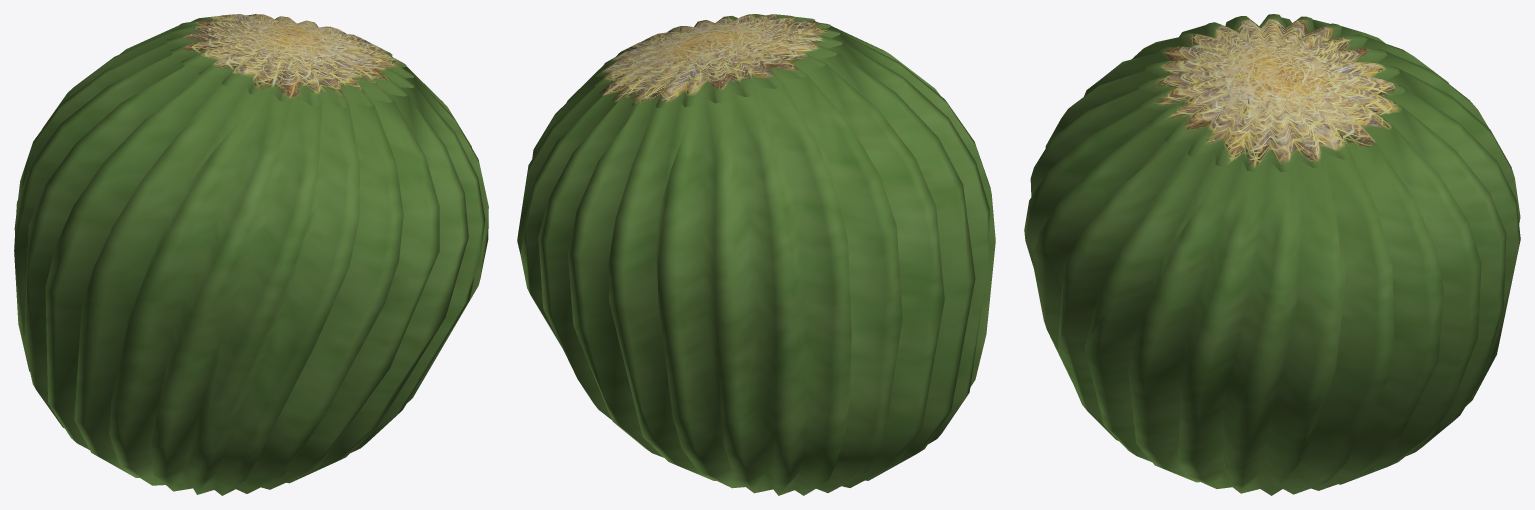
File: cactus_barrel_3.glb
3 renders of one model, left to right at view 1: azimuth 30°, elevation 25°; view 2: azimuth 150°, elevation 25°; view 3: azimuth 270°, elevation 25°, orthographic. The views are drawn at different scales.
Parts seen in each view (by area): view 1: prop; view 2: prop; view 3: prop.
Part boxes in pixels (x1=…): prop: x1=14, y1=14, x2=488, y2=495; prop: x1=517, y1=14, x2=995, y2=495; prop: x1=1024, y1=14, x2=1520, y2=495.
Bounding box in the file's own units: 0.8626 × 0.7998 × 0.8457.
2 materials, 2 textured.
